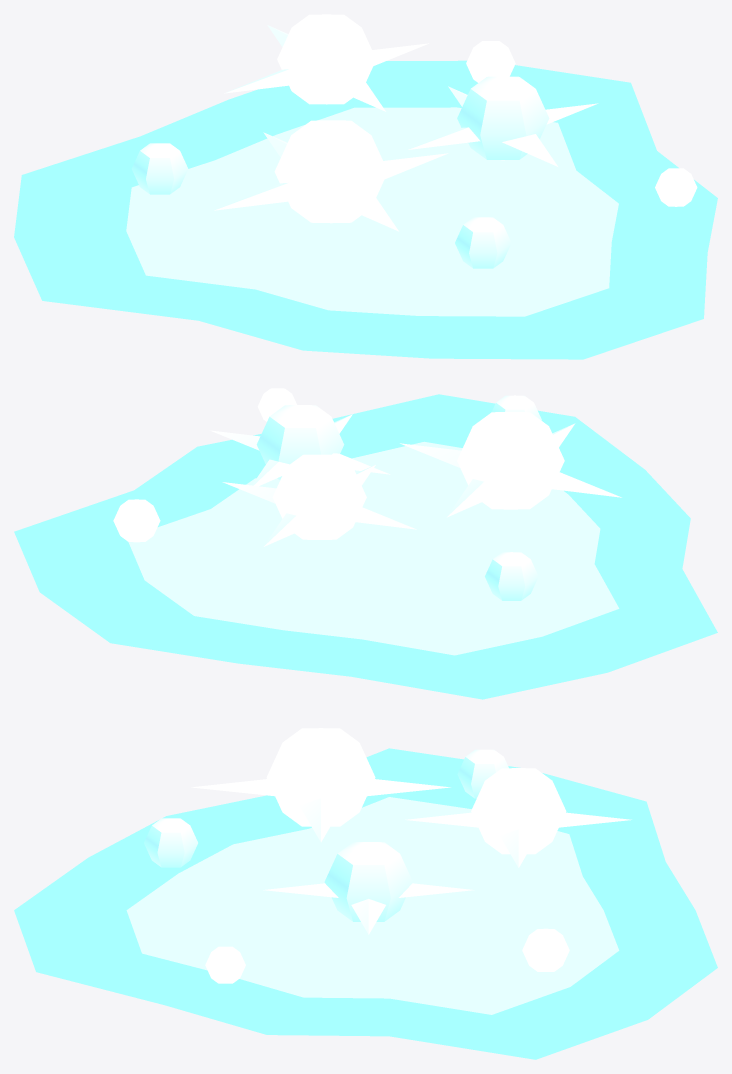
File: open_star_cluster.glb
3 views of the same model, one above another, from view 1: azimuth 30°, elevation 25°; view 2: azimuth 150°, elevation 25°; view 3: azimuth 270°, elevation 25° (orthographic). The views are drawn at different scales.
Parts seen in each view (by area): view 1: body; view 2: body; view 3: body.
Boxes of the visible parts, box(x1,y1,x2,y2) form: body: box(14, 14, 717, 359); body: box(14, 388, 717, 699); body: box(14, 728, 717, 1059).
Size of the model in its own units: 216 by 47 by 207.
